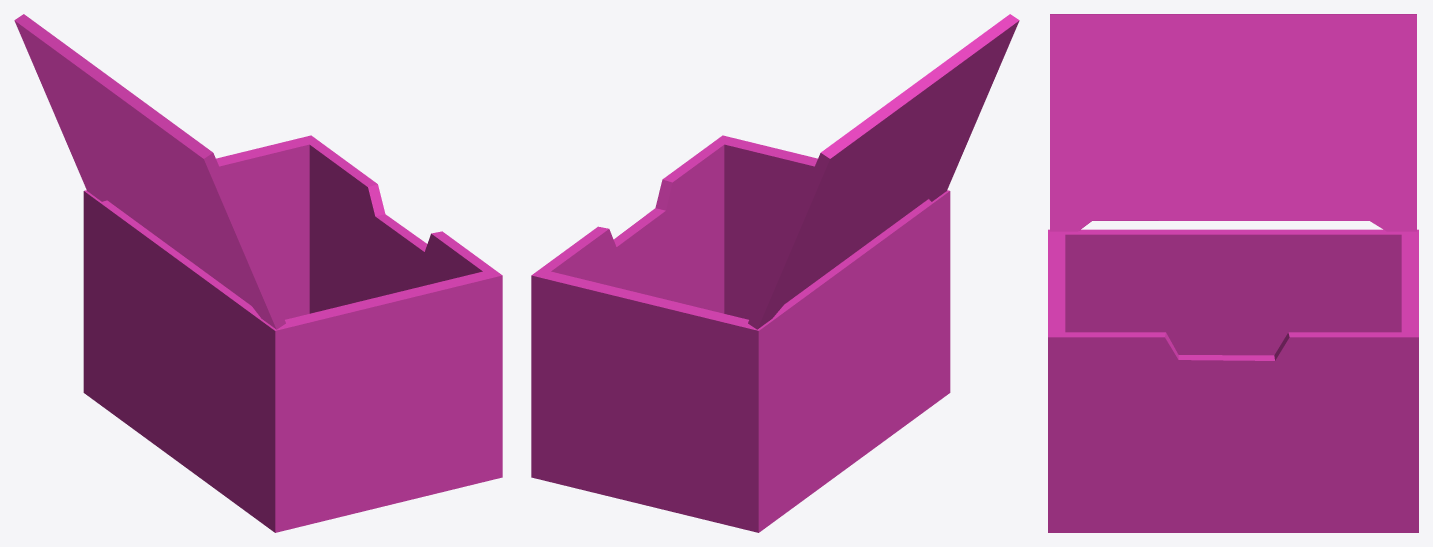
File: toybox.fbx
The picture shows the model from 3 angles, left to right: view 1: azimuth 30°, elevation 25°; view 2: azimuth 150°, elevation 25°; view 3: azimuth 270°, elevation 25°; orthographic projection. The views are drawn at different scales.
Visible parts, largest first — view 1: Cube, Cube.001; view 2: Cube, Cube.001; view 3: Cube, Cube.001.
Boxes of the visible parts, bbox=[...] form: Cube: bbox=[83, 135, 502, 532]; Cube.001: bbox=[14, 14, 285, 329]; Cube: bbox=[531, 135, 950, 532]; Cube.001: bbox=[748, 14, 1019, 329]; Cube: bbox=[1048, 229, 1418, 532]; Cube.001: bbox=[1050, 14, 1416, 231].
Bounding box in the file's own units: 260 × 329 × 289.
